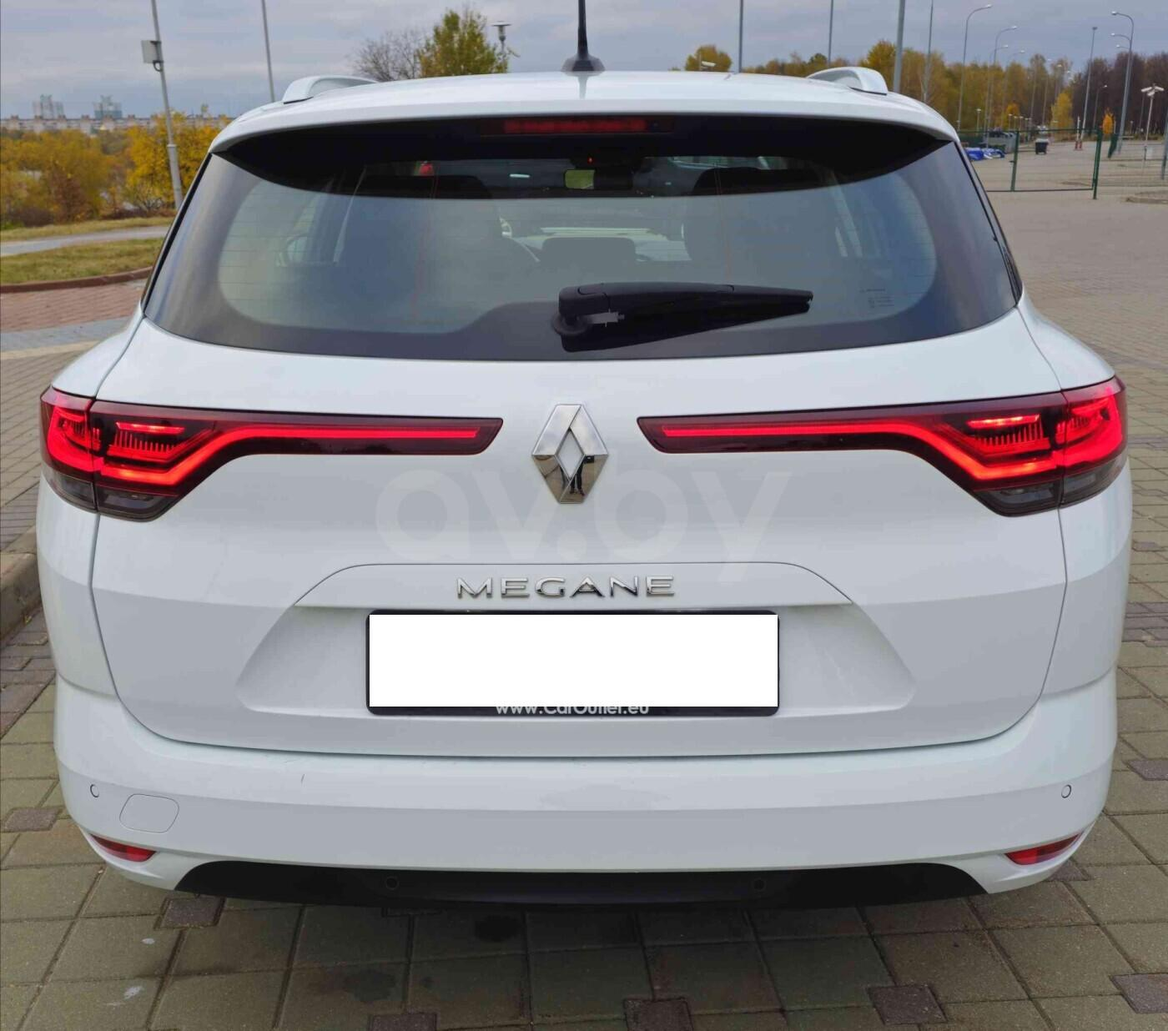Megane_2020: (0, 54, 1140, 918)
